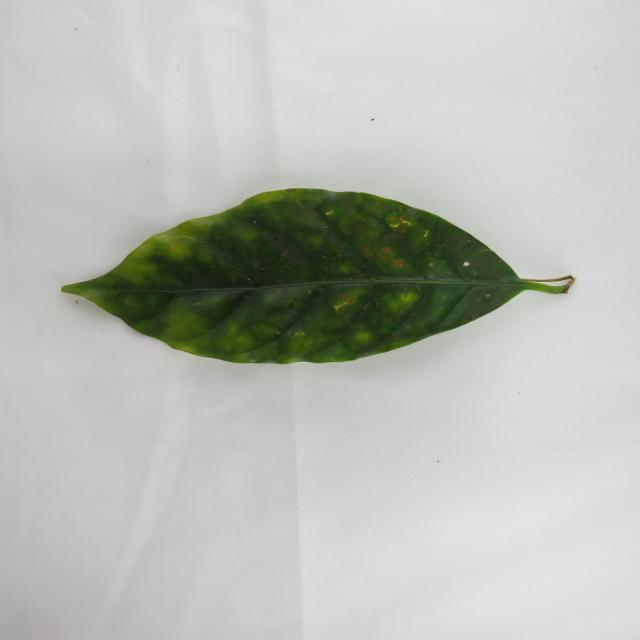DeficienciaNutricional-Magnesio: (62, 189, 573, 364)
